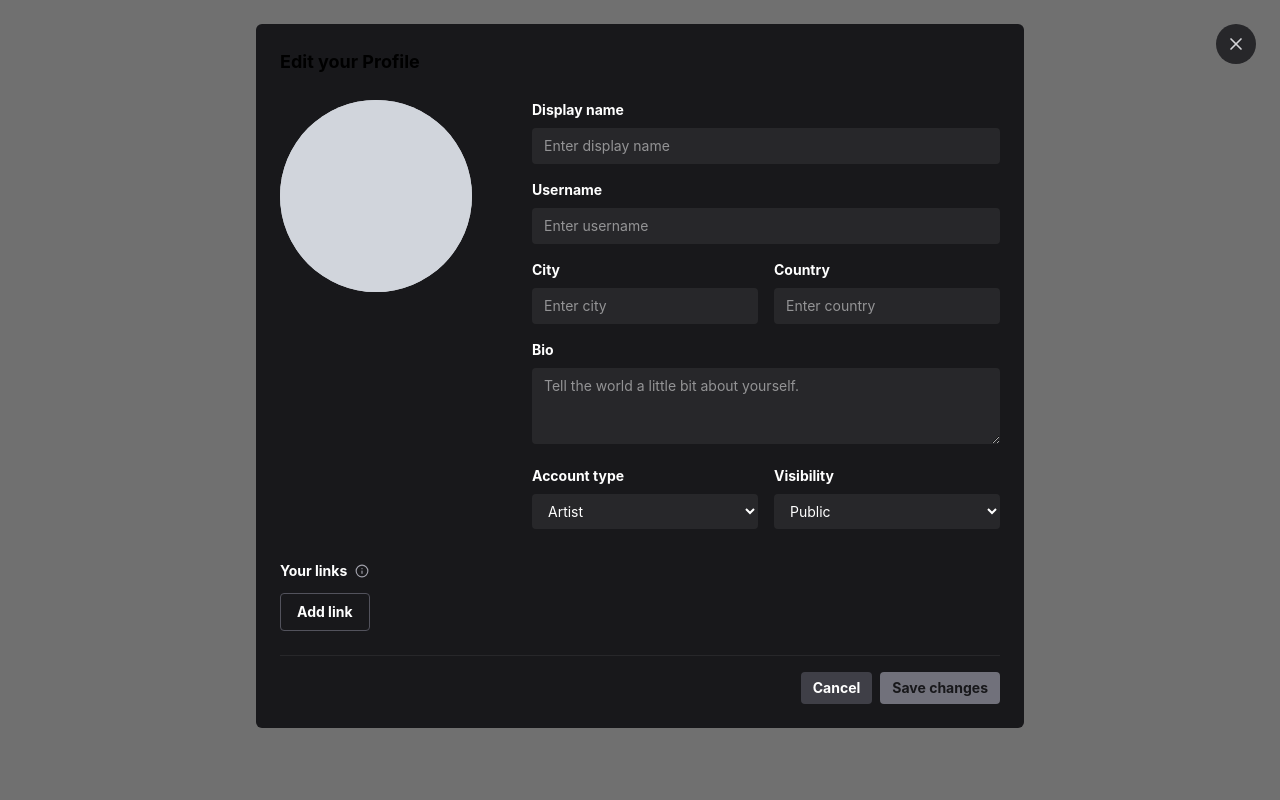
EditInfo › shows link inputs when Add link is clicked
Click the button "Add link" at (325, 612), box left=280, top=593, right=370, bottom=631
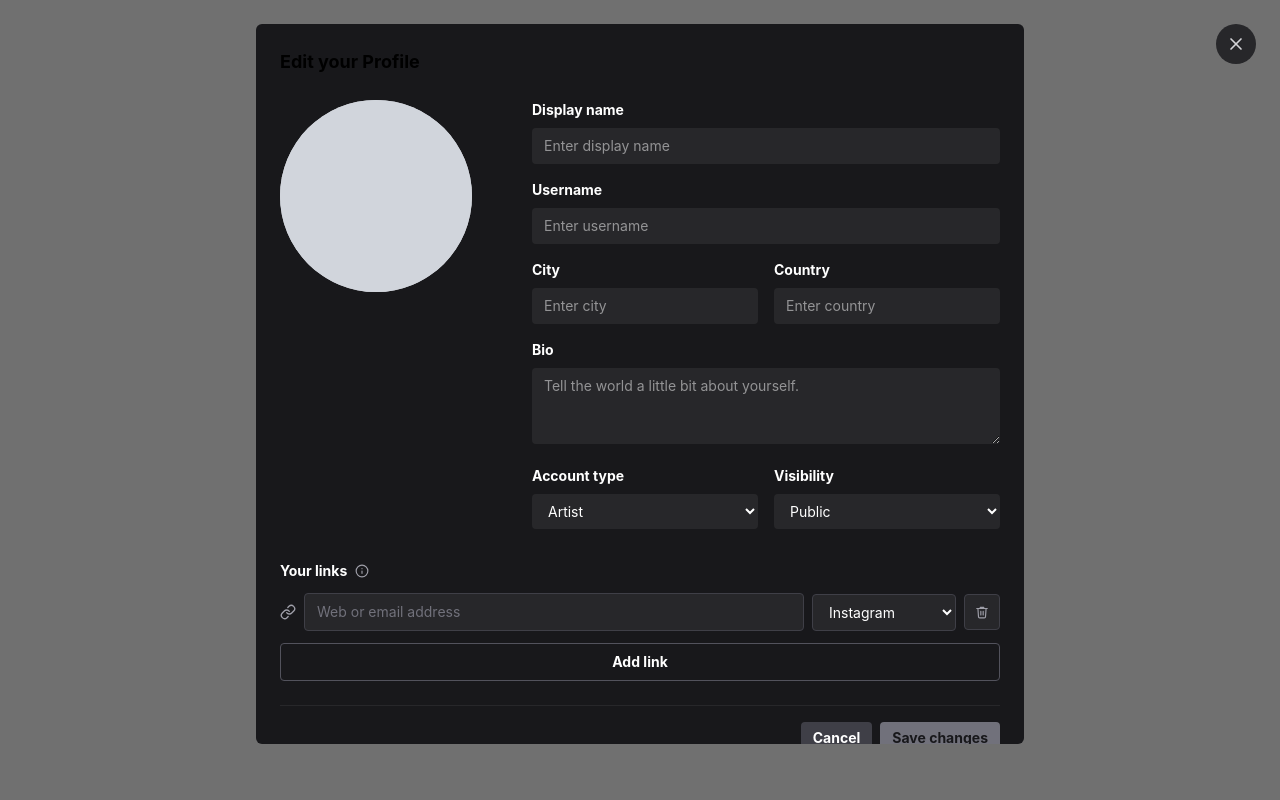
Expected: the button "Add link" is shown, left=280, top=643, right=1000, bottom=681
Now the field with placeholder "Web or email address" is shown, box left=304, top=593, right=804, bottom=631
Now the 3rd dropdown showing "Instagram" is shown, box left=812, top=594, right=956, bottom=630
